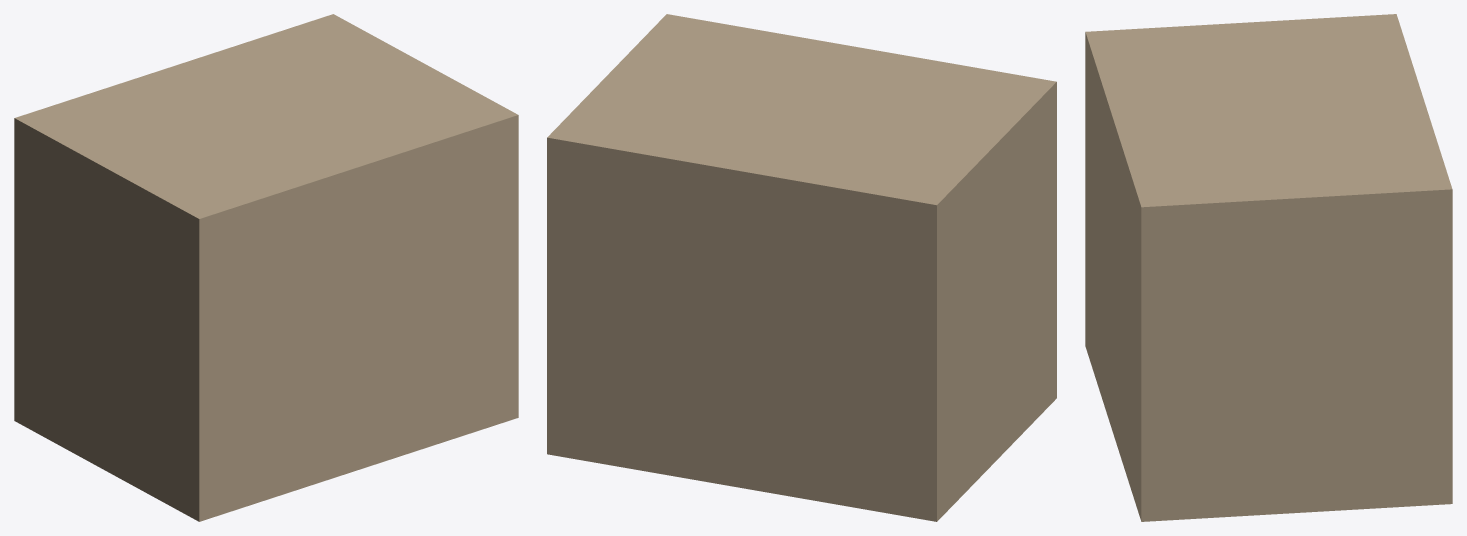
The model's file is bld_163484450.dae.
The picture shows the model from 3 angles, left to right: view 1: azimuth 30°, elevation 25°; view 2: azimuth 150°, elevation 25°; view 3: azimuth 270°, elevation 25°; orthographic projection. The views are drawn at different scales.
Parts seen in each view (by area): view 1: bld_163484450; view 2: bld_163484450; view 3: bld_163484450.
Part boxes in pixels (bbox=[...]): bld_163484450: bbox=[14, 14, 518, 521]; bld_163484450: bbox=[547, 14, 1056, 521]; bld_163484450: bbox=[1085, 14, 1452, 521].
Bounding box in the file's own units: 10.54 × 8.46 × 8.
